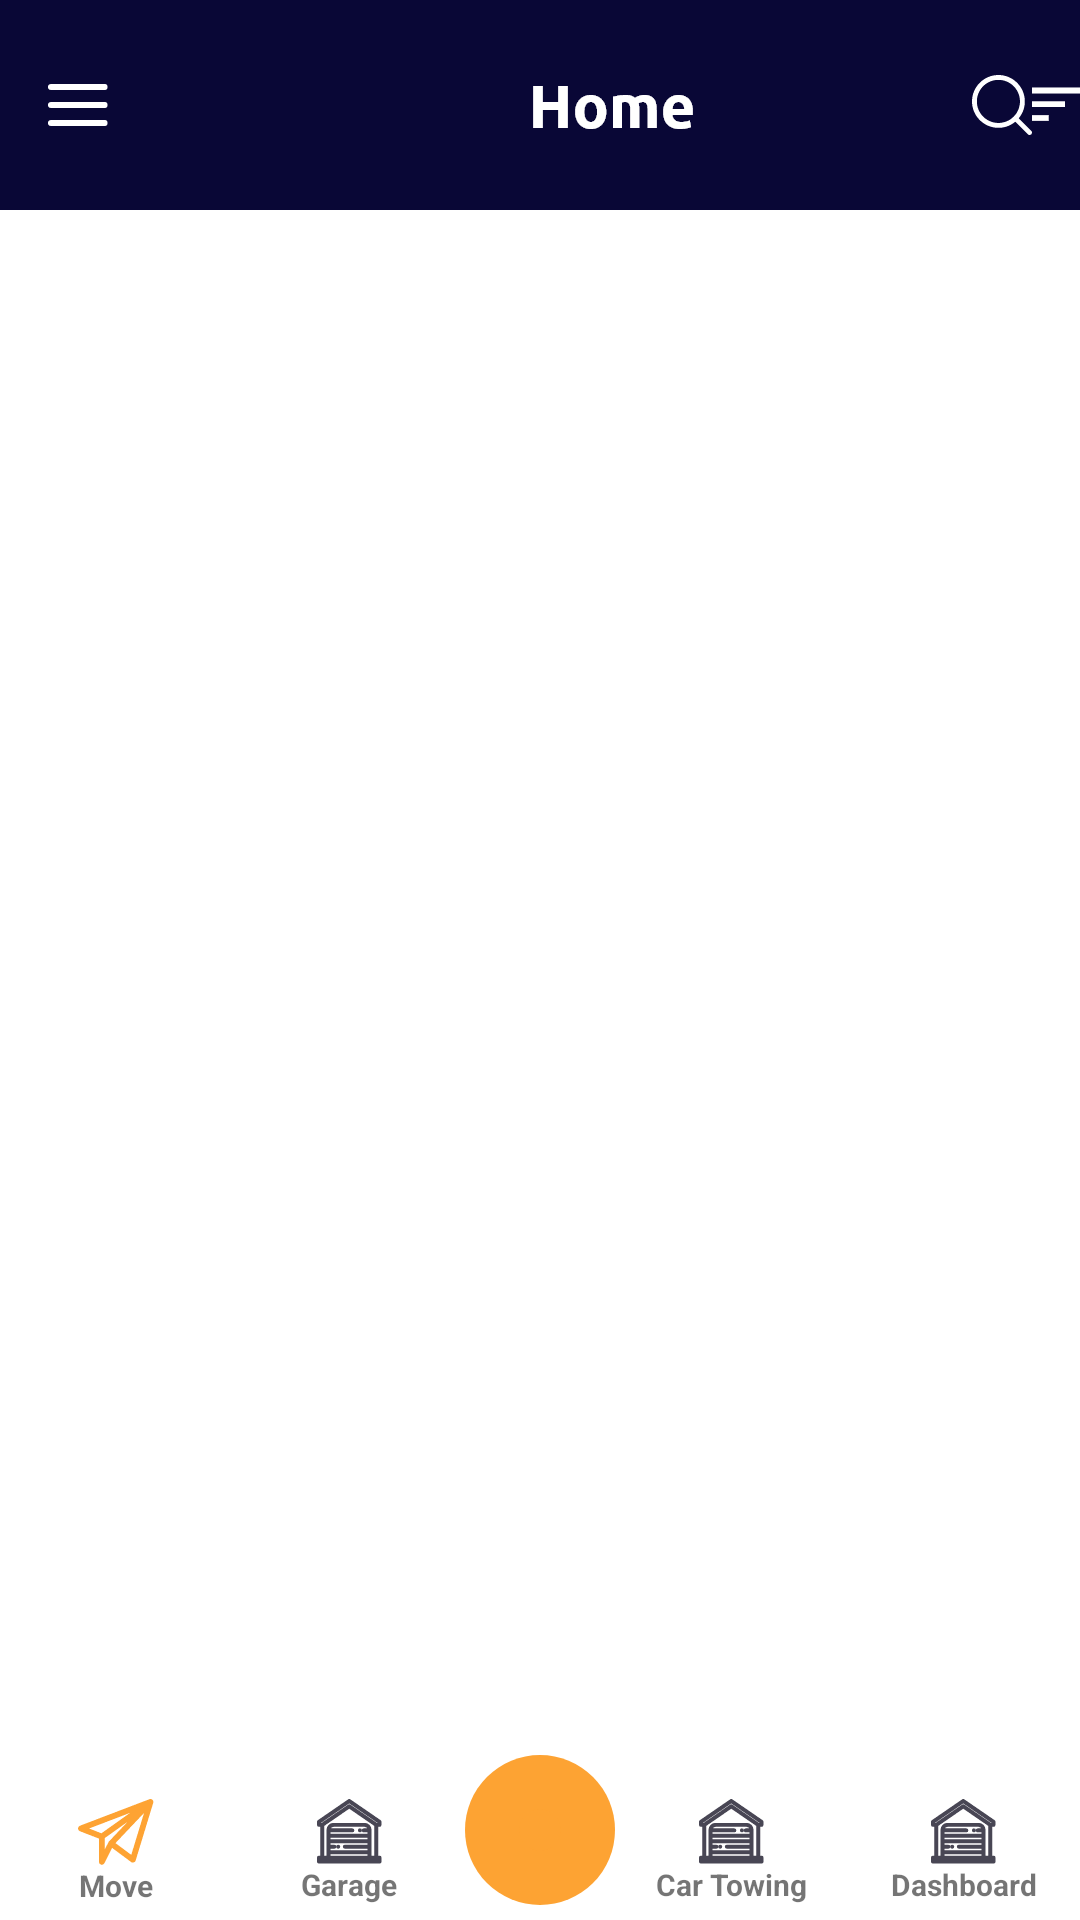

Screen size 1080px×1920px. Icon name, then its box in pixels as (x1, y1, x2, y2):
loupe: (972, 75, 1032, 135)
send: (78, 1799, 154, 1865)
